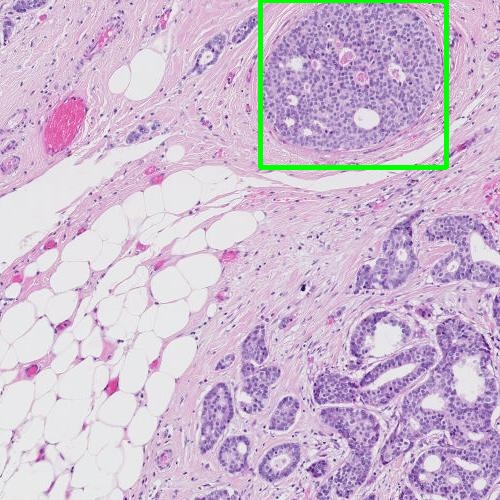DCIS: (260, 0, 446, 167)
